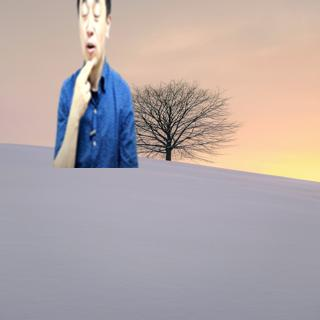DHAVE: (64, 57, 100, 122)
